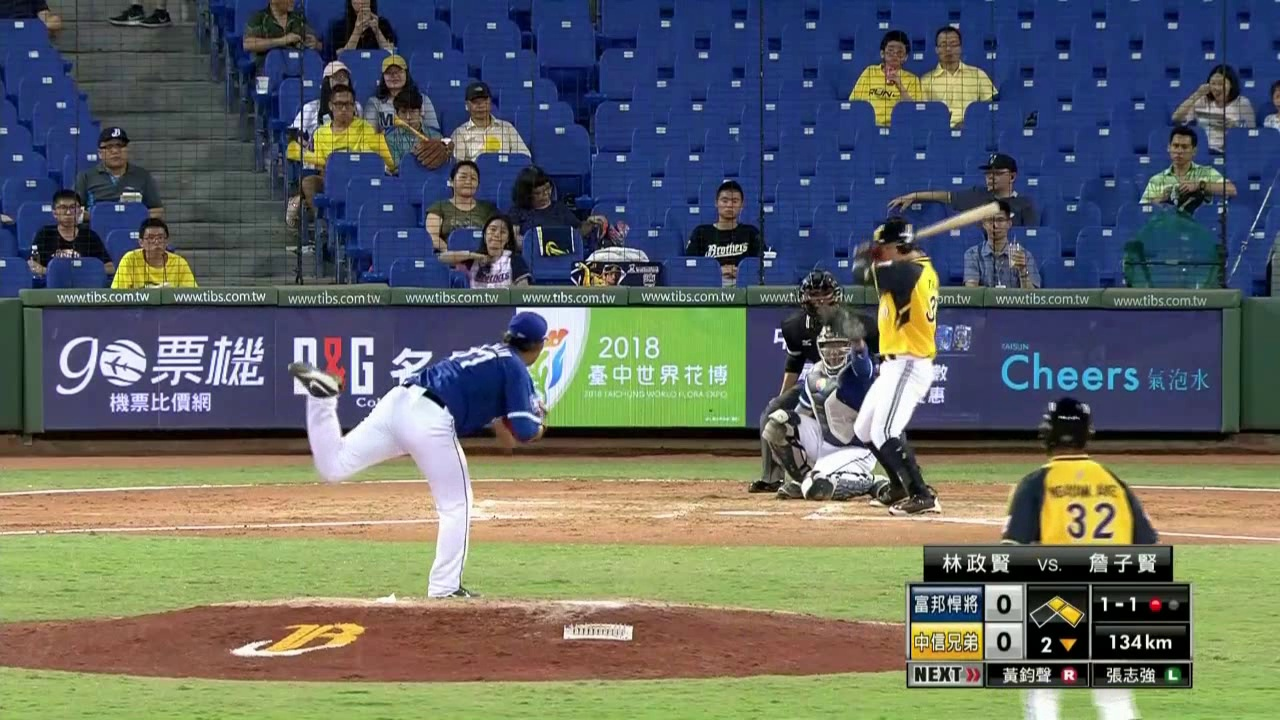base: (1030, 589, 1086, 628)
bat: (913, 199, 1006, 236)
out: (1142, 591, 1182, 622)
score1: (986, 588, 1021, 618)
score2: (986, 624, 1020, 657)
session: (1030, 629, 1089, 659)
speed: (1093, 627, 1185, 658)
strikeball: (1093, 588, 1138, 622)
